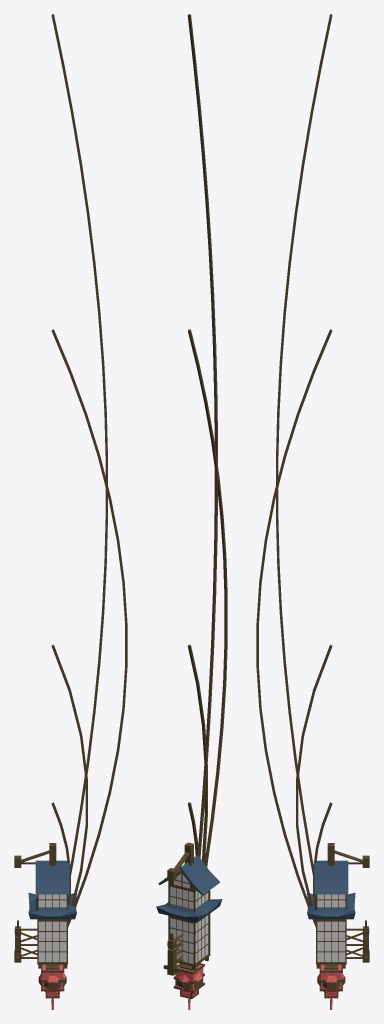
The model's file is Lanterns.fbx.
3 renders of one model, left to right at view 1: azimuth 90°, elevation 25°; view 2: azimuth 150°, elevation 25°; view 3: azimuth 270°, elevation 25°, orthographic.
Parts seen in each view (by area): view 1: Lantern Line 4, Tall Lantern, Lantern Line 3, Tall Lantern 2, Lantern Line 2, Lantern Pole, Lantern 4, Lantern Line 1; view 2: Lantern Line 4, Tall Lantern, Lantern Line 3, Tall Lantern 2, Lantern Line 2, Lantern 4, Lantern Pole, Lantern Anchor 1, Lantern Anchor 3, Lantern Line 1; view 3: Lantern Line 4, Tall Lantern, Lantern Line 3, Tall Lantern 2, Lantern Line 2, Lantern Pole, Lantern 4.
Boxes of the visible parts, x1,y1,x2,y2 form: Lantern Line 4: (51, 14, 107, 881); Tall Lantern: (28, 892, 76, 968); Lantern Line 3: (51, 329, 127, 927); Tall Lantern 2: (35, 860, 69, 962); Lantern Line 2: (51, 644, 87, 923); Lantern Pole: (14, 843, 56, 867); Lantern 4: (41, 964, 64, 991); Lantern Line 1: (51, 802, 70, 905); Lantern Line 4: (187, 14, 217, 857); Tall Lantern: (156, 899, 222, 970); Lantern Line 3: (188, 329, 227, 866); Tall Lantern 2: (158, 855, 220, 964); Lantern Line 2: (187, 644, 207, 863); Lantern 4: (173, 963, 204, 992); Lantern Pole: (167, 842, 193, 880); Lantern Anchor 1: (163, 933, 183, 975); Lantern Anchor 3: (167, 939, 183, 965); Lantern Line 1: (188, 802, 198, 856); Lantern Line 4: (276, 14, 332, 881); Tall Lantern: (307, 892, 355, 968); Lantern Line 3: (256, 329, 332, 927); Tall Lantern 2: (314, 860, 348, 947); Lantern Line 2: (296, 644, 332, 923); Lantern Pole: (327, 843, 369, 867); Lantern 4: (319, 964, 342, 991).
Bounding box in the file's own units: 151 × 3155 × 325.
